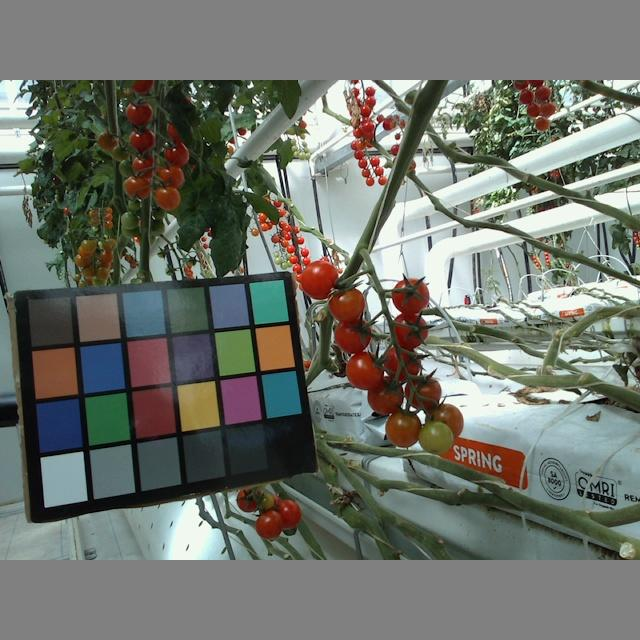green: (418, 419, 453, 454)
pink: (425, 403, 463, 443), (404, 374, 443, 412), (384, 407, 421, 447), (366, 378, 403, 416)
red: (344, 351, 385, 392), (382, 344, 422, 383), (390, 311, 429, 350), (300, 259, 338, 299), (390, 278, 430, 315), (333, 316, 372, 353), (327, 288, 364, 323), (129, 152, 163, 181), (273, 499, 302, 533), (153, 163, 185, 192), (123, 173, 156, 201), (149, 183, 180, 212), (124, 99, 154, 127), (256, 510, 283, 541), (161, 139, 189, 168), (235, 482, 263, 511), (128, 126, 156, 152)
